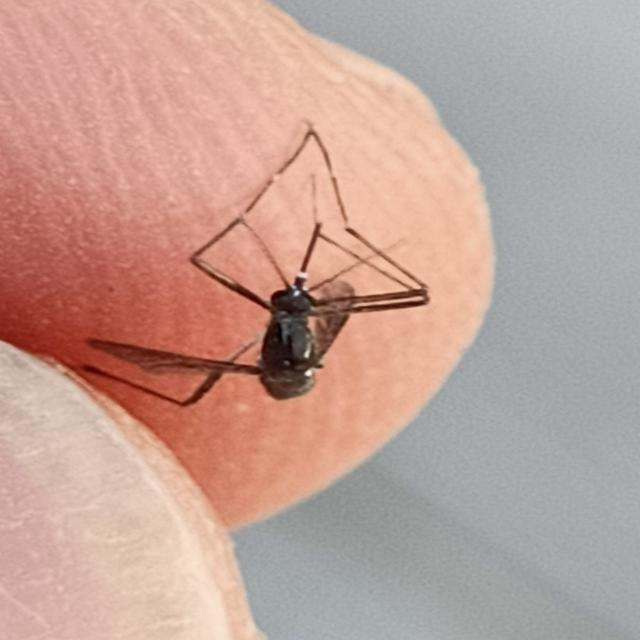albopictus: (91, 90, 443, 428)
